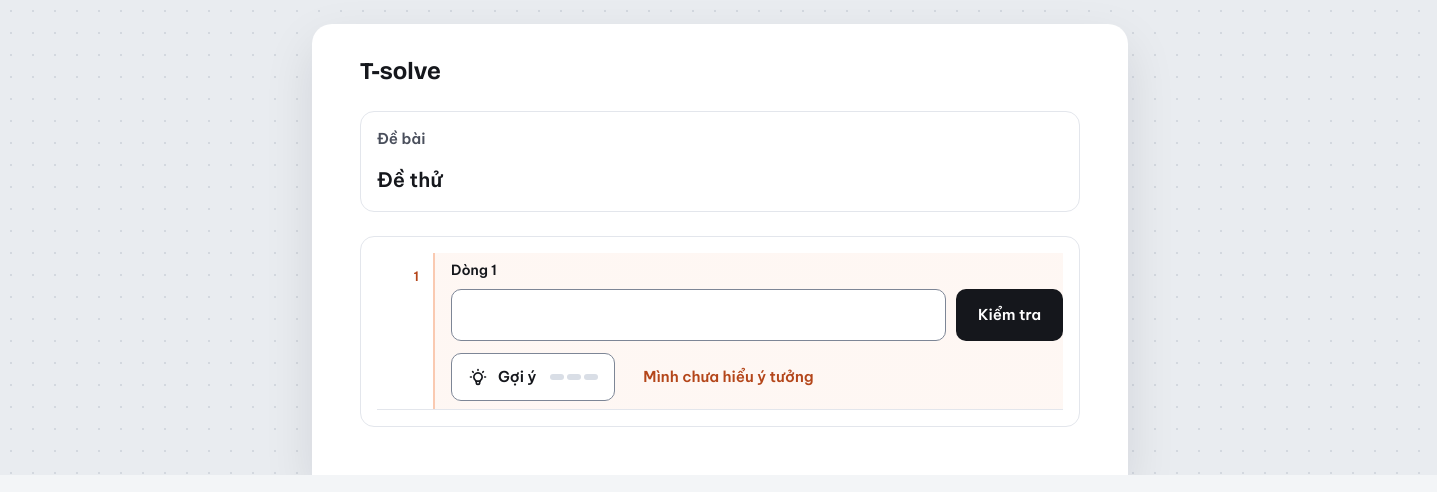
Test: done reports task_completed once with max_hint and helped
Expected: the text "Đề thử" is shown, 377,167 -> 442,192
Step 1. Click the button "Gợi ý" → [533, 377], box 451,353 -> 615,401
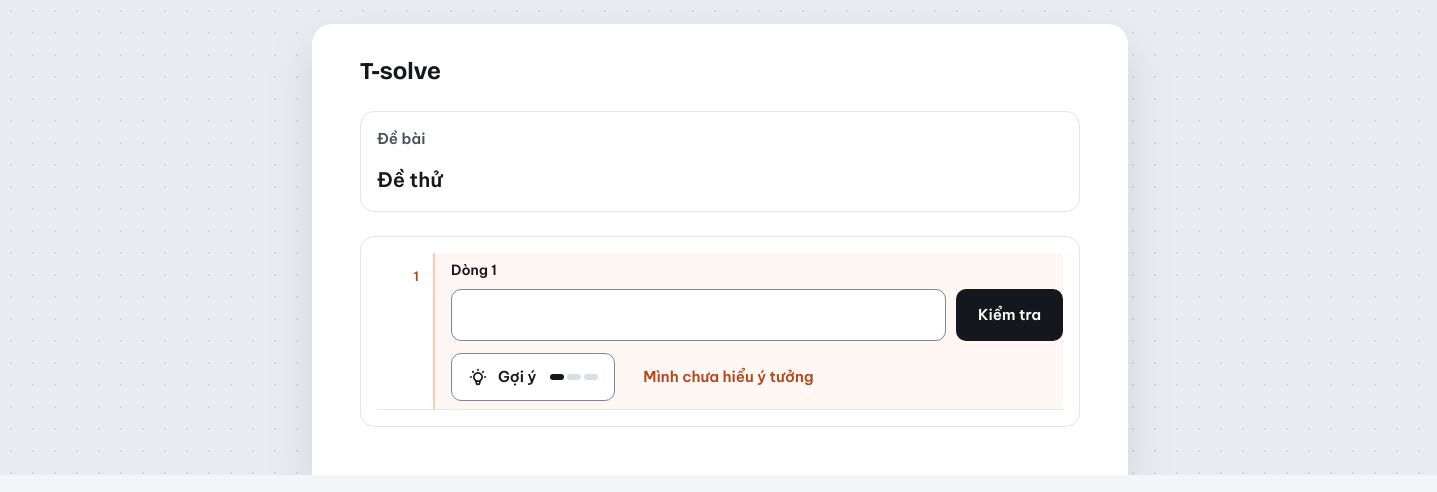
Step 2. Click the button "Gợi ý" → [533, 377], box 451,353 -> 615,401
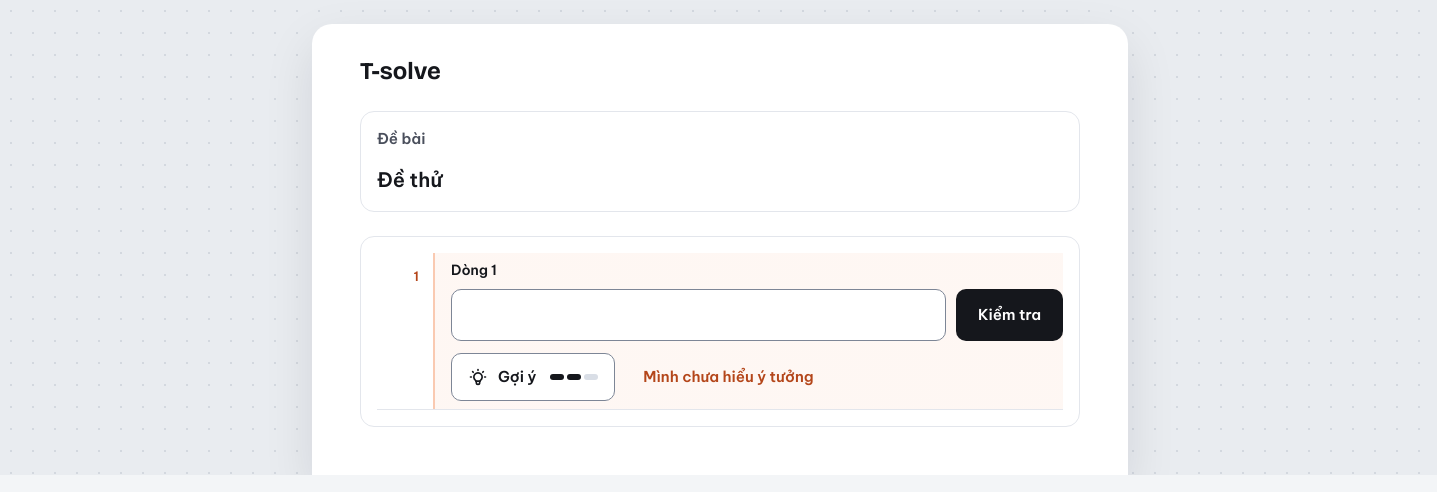
Step 3. Type "a" into the field → [698, 315], box 451,289 -> 946,341
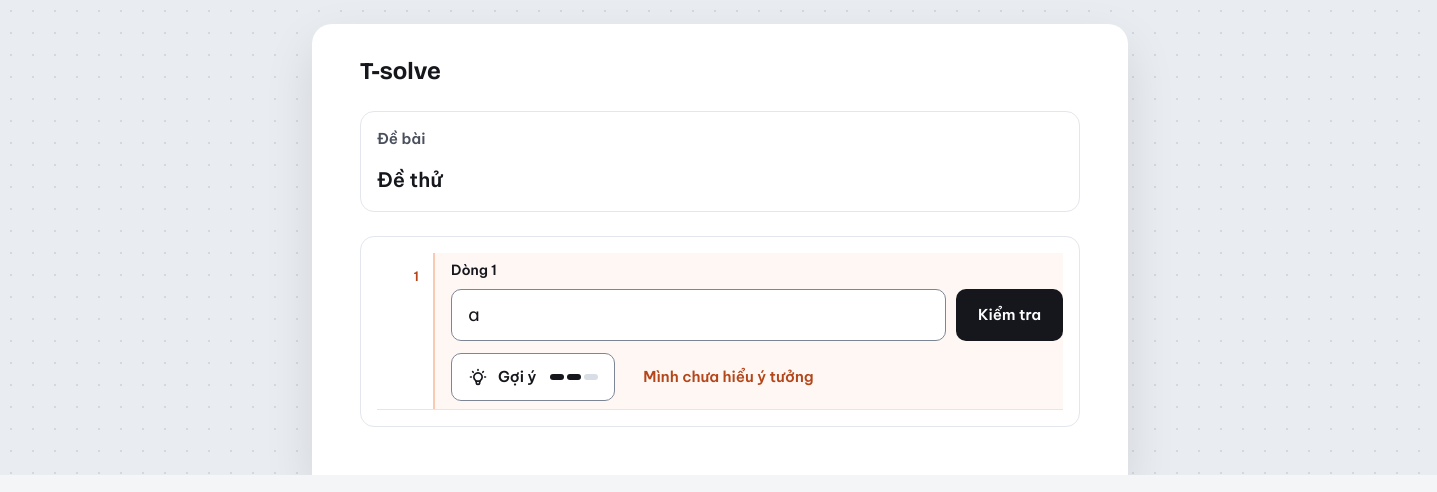
Step 4. Click the button "Kiểm tra" → [1010, 315], box 956,289 -> 1063,341
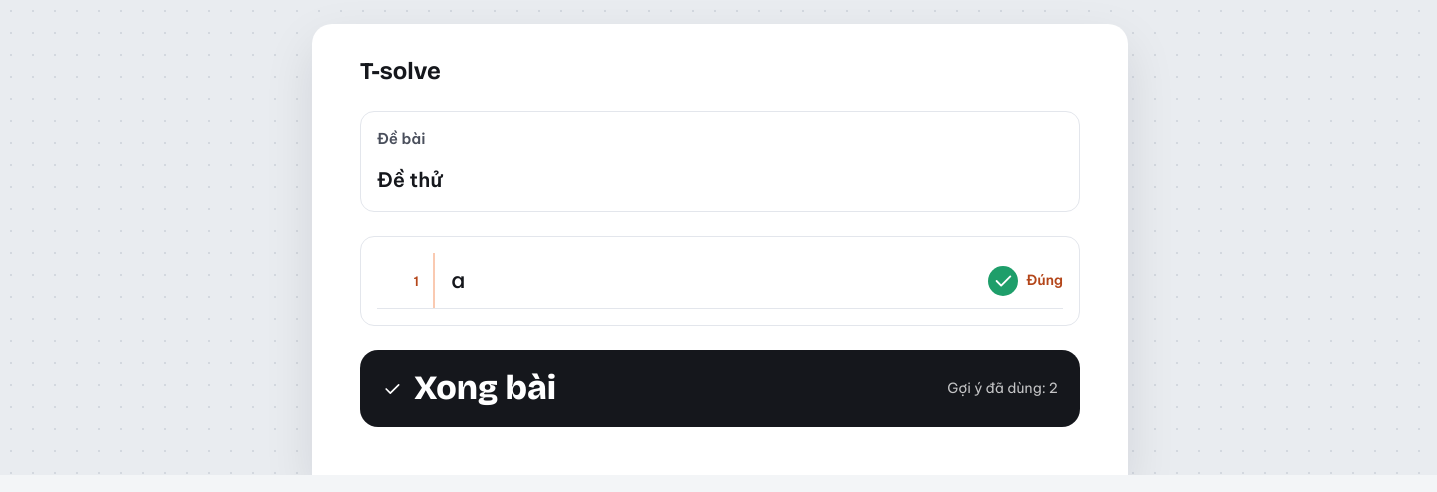
Result: the text "Xong bài" is shown at 414,368 -> 556,409
